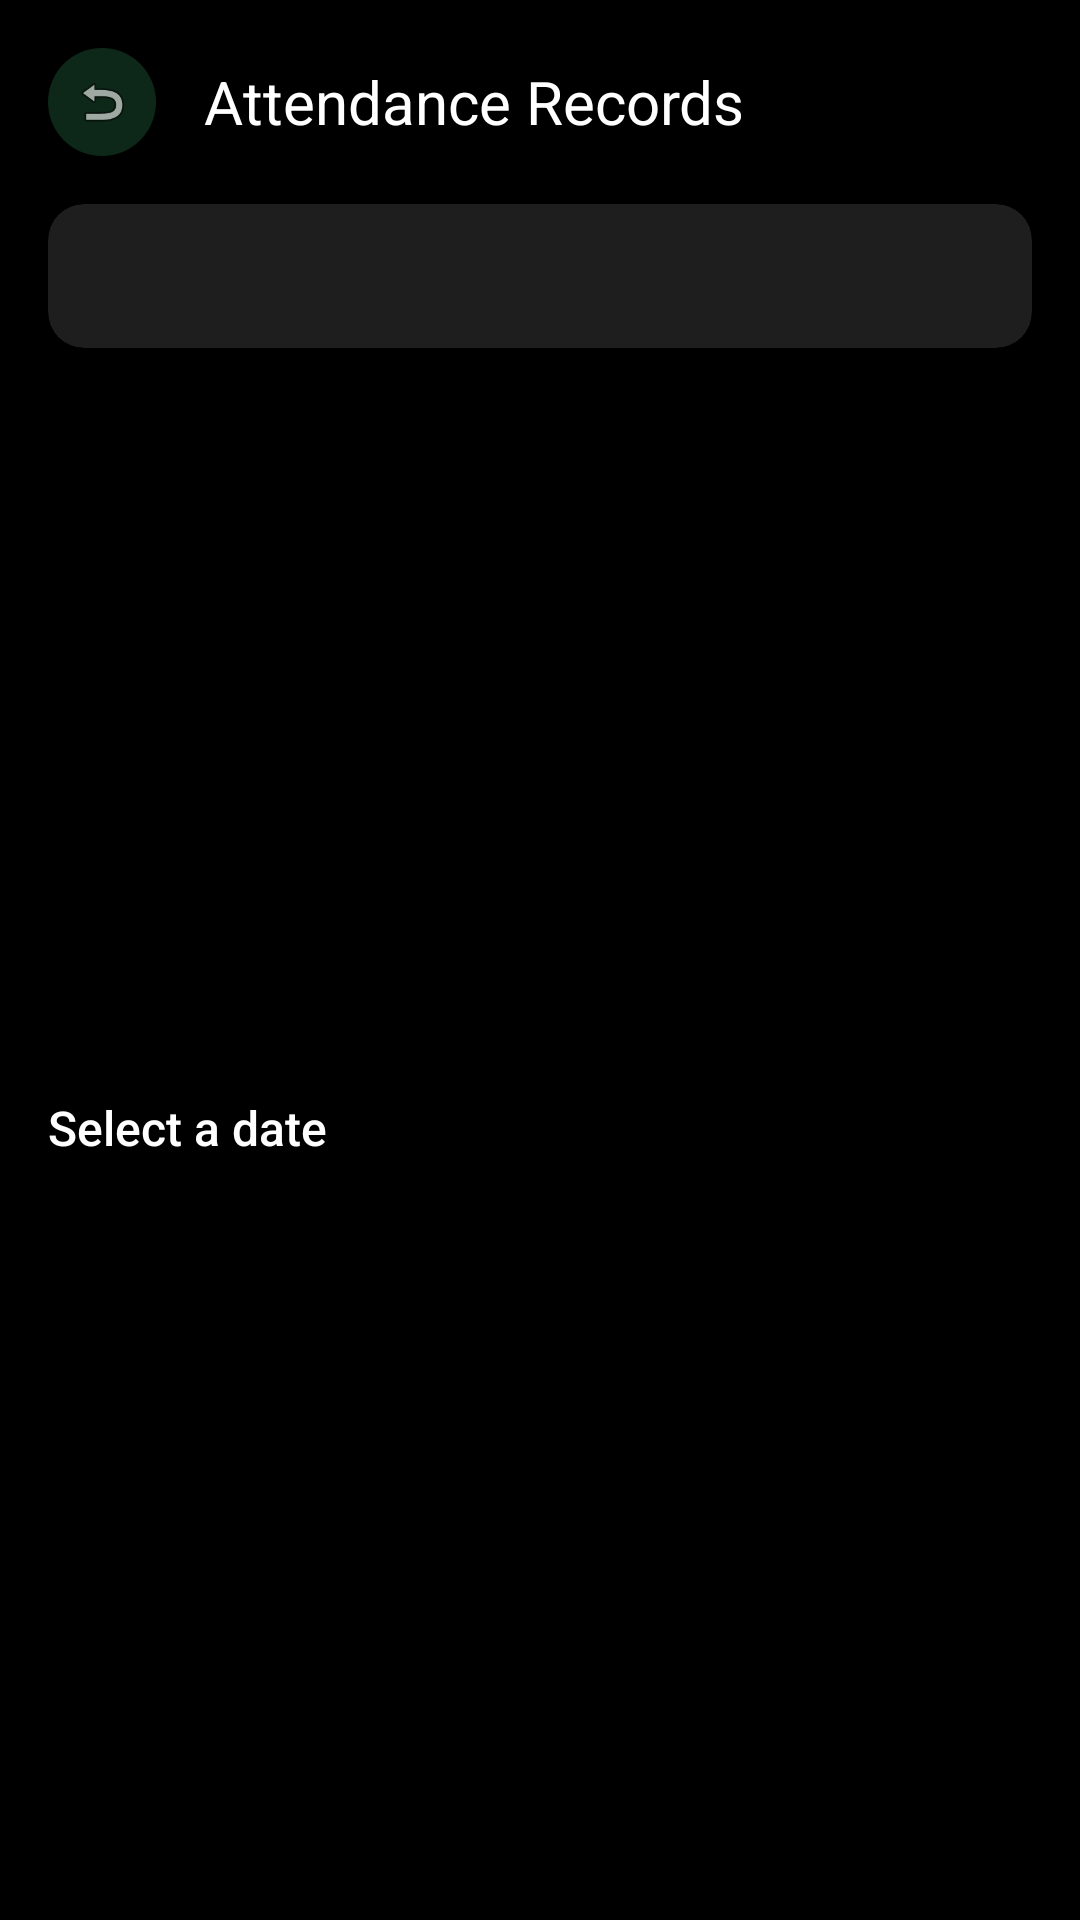

Locate icon controls on the screen. Image size 1080px×1920px, boxes as (x1, y1, x2, y2).
revert: (48, 48, 156, 156)
